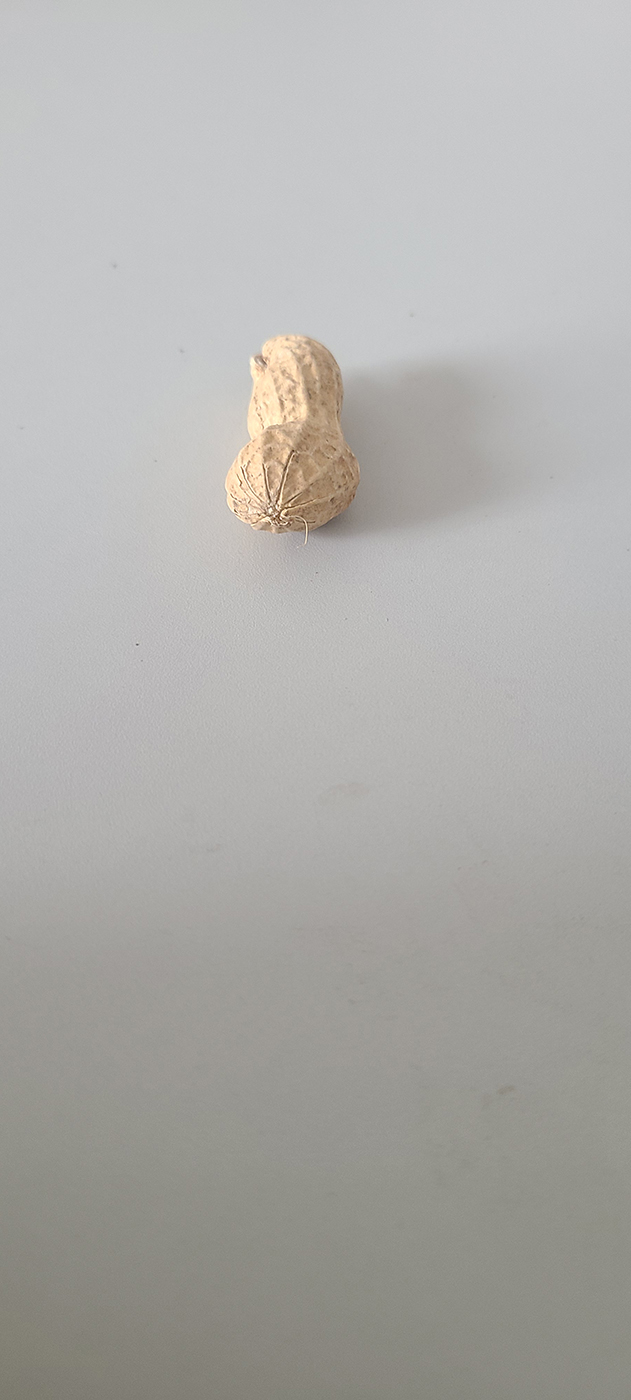h: (219, 327, 360, 539)
